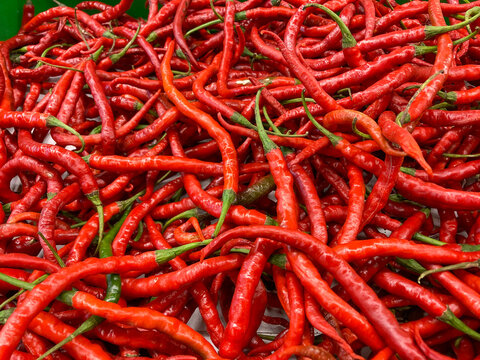Cabai: (130, 62, 377, 317)
